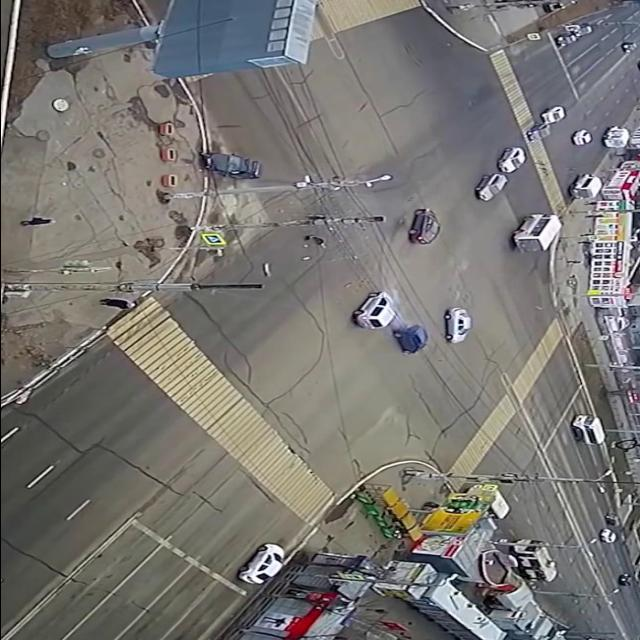accident: (345, 285, 435, 359), (188, 142, 280, 186)
non_accident: (465, 145, 535, 206), (518, 103, 570, 145), (546, 22, 599, 50)
